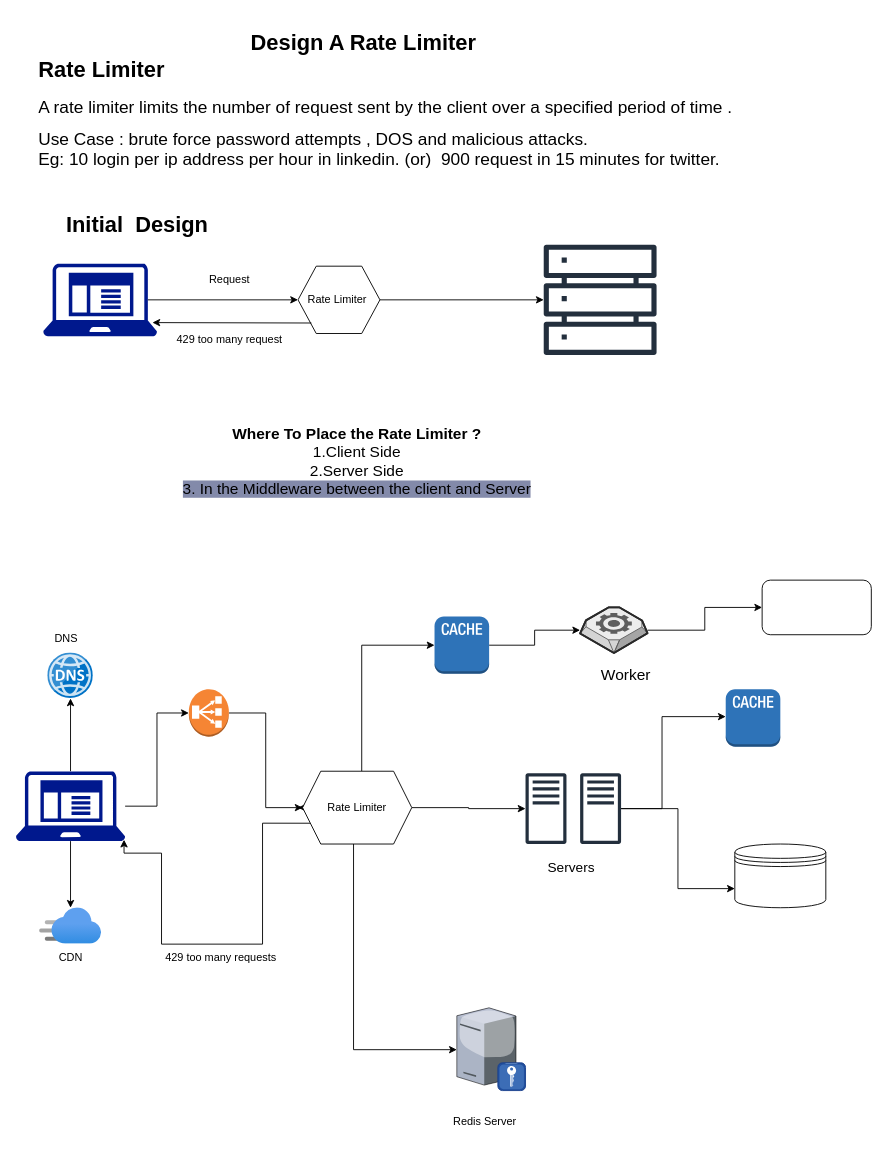
Some shapes in this 887 by 1150 pixel diagram are drawn without their labels. The shapes that lost their labels are listed below. From the top down, each one's centre as x and y in pixels, then its label:
At pixel 816 607: "Rules".
At pixel 780 875: "Data Base".
